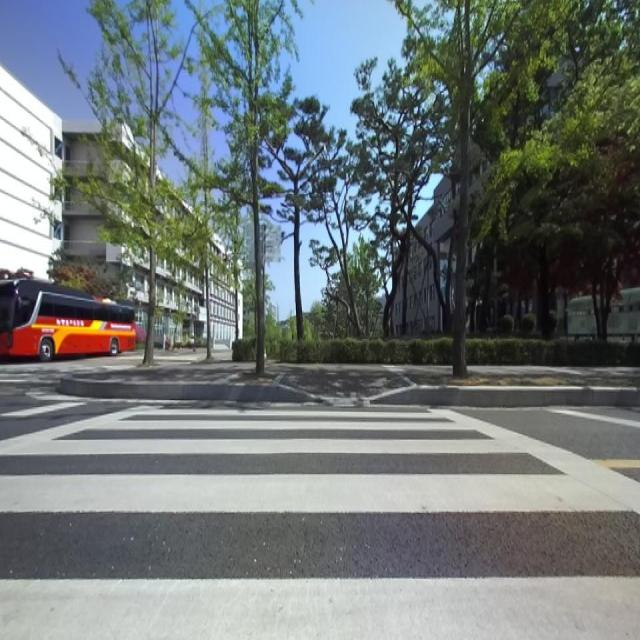sidewalk: (279, 365, 407, 397), (73, 362, 240, 381)
